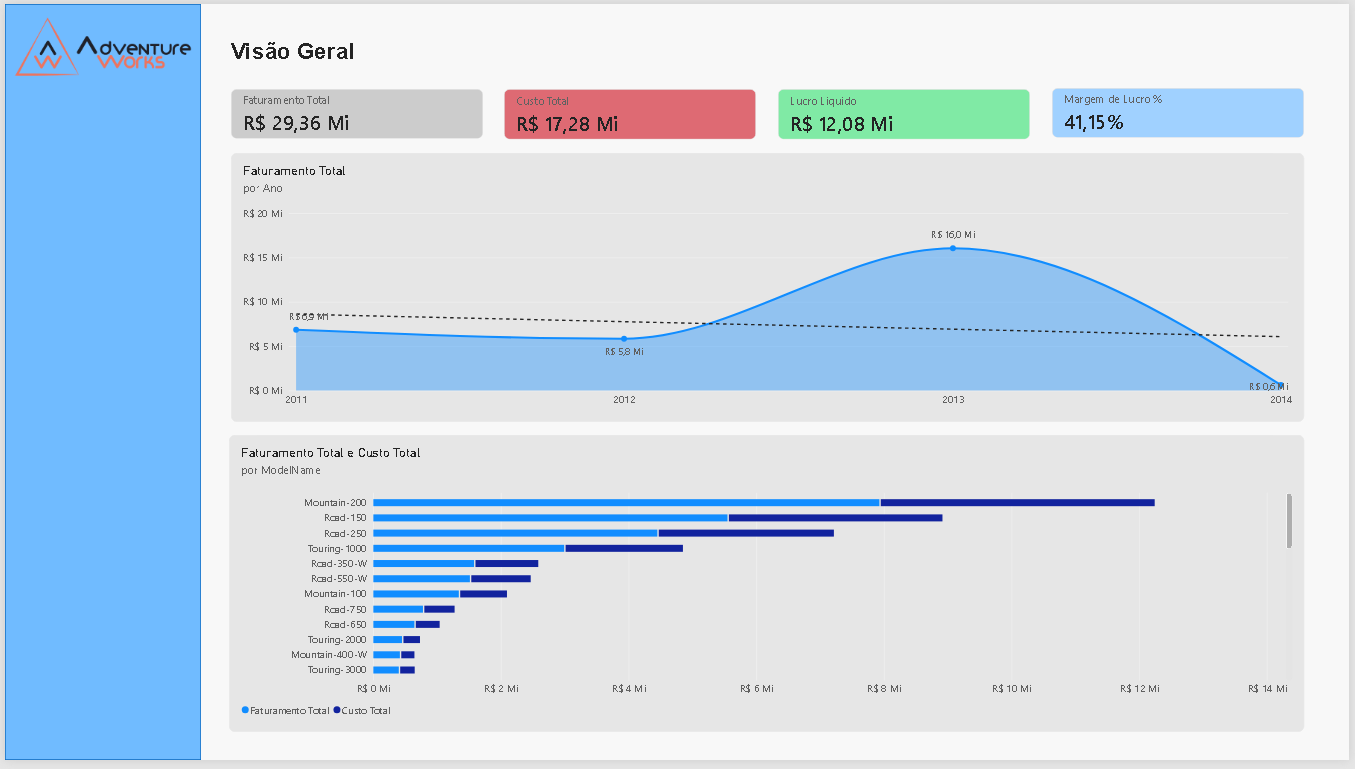

What the dashboard file says about the page in this screenshot:
{"tool":"powerbi","page":{"name":"Visão Geral","canvas":[1920,1080],"ordinal":0},"visuals":[{"type":"shape","box":[0,0,280,1080],"z":0},{"type":"image","box":[0,0,280,122],"z":1000},{"type":"textbox","box":[323.3,48.3,360,40],"z":2000},{"type":"cardVisual","fields":{"Data":["FactInternetSales.Faturamento Total"]},"box":[323.3,121.7,360,71.7],"z":3000},{"type":"cardVisual","fields":{"Data":["FactInternetSales.Custo Total"]},"box":[712.5,121.2,360,72],"z":4000},{"type":"cardVisual","fields":{"Data":["FactInternetSales.Lucro Liquido"]},"box":[1103.8,121.2,360,72],"z":5000},{"type":"cardVisual","fields":{"Data":["FactInternetSales.Margem de Lucro %"]},"box":[1495,120,360,71.7],"z":6000},{"type":"lineChart","title":"Evolução do Faturamento","fields":{"Category":["DimDate.FullDateAlternateKey.Variation.Hierarquia de datas.Ano","DimDate.FullDateAlternateKey.Variation.Hierarquia de datas.Trimestre","DimDate.FullDateAlternateKey.Variation.Hierarquia de datas.Mês","DimDate.FullDateAlternateKey.Variation.Hierarquia de datas.Dia"],"Y":["FactInternetSales.Faturamento Total"]},"box":[322.9,212.9,1532.9,384.3],"z":7000},{"type":"barChart","title":"Faturamento e Custo por Modelo","fields":{"Category":["DimProduct.ModelName"],"Y":["FactInternetSales.Faturamento Total","FactInternetSales.Custo Total"]},"box":[323.3,615,1531.7,425],"z":8000},{"type":"actionButton","box":[41.7,250.8,196.7,40],"z":9000},{"type":"actionButton","box":[41.7,308.3,196.7,40],"z":10000},{"type":"shape","box":[25,251.5,12,40],"z":11000},{"type":"actionButton","box":[41.7,361.2,196.7,40],"z":11001}]}

Visuals, with their boxes in screenshot pixels (x1, y1, x2, y2), scaled from the page's 1920x1080 canvas onto the 1355x769 screenshot:
shape: (0, 0, 198, 768)
image: (0, 0, 198, 87)
textbox: (228, 34, 482, 63)
cardVisual - FactInternetSales.Faturamento Total: (228, 87, 482, 138)
cardVisual - FactInternetSales.Custo Total: (503, 86, 757, 138)
cardVisual - FactInternetSales.Lucro Liquido: (779, 86, 1033, 138)
cardVisual - FactInternetSales.Margem de Lucro %: (1055, 85, 1309, 136)
"Evolução do Faturamento" lineChart: (228, 152, 1310, 425)
"Faturamento e Custo por Modelo" barChart: (228, 438, 1309, 741)
actionButton: (29, 179, 168, 207)
actionButton: (29, 220, 168, 248)
shape: (18, 179, 26, 208)
actionButton: (29, 257, 168, 286)
